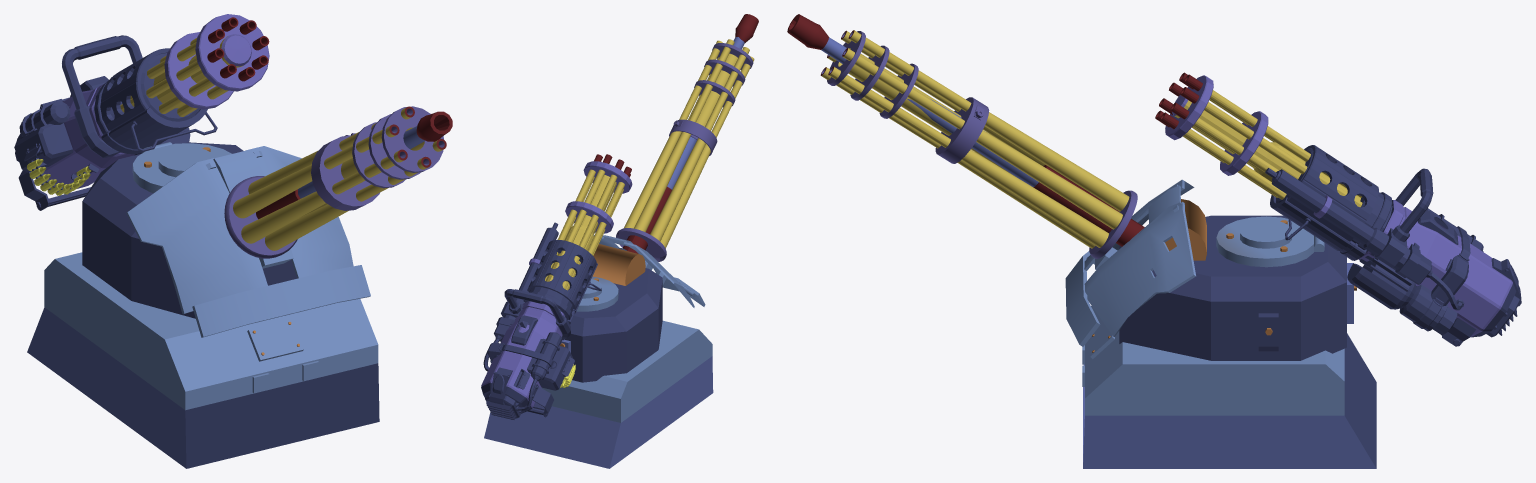
File: Cannon-S-2.fbx
The picture shows the model from 3 angles, left to right: view 1: azimuth 30°, elevation 25°; view 2: azimuth 150°, elevation 25°; view 3: azimuth 270°, elevation 25°; orthographic projection. The views are drawn at different scales.
Visible parts, largest first — view 1: pasted__polySurface268, Attack, Attack1; view 2: pasted__polySurface268, Attack, Attack1; view 3: pasted__polySurface268, Attack, Attack1.
Boxes of the visible parts, x1,y1,x2,y2 form: pasted__polySurface268: [27, 142, 379, 468]; Attack: [14, 14, 269, 210]; Attack1: [224, 106, 452, 258]; pasted__polySurface268: [484, 235, 713, 468]; Attack: [481, 154, 632, 419]; Attack1: [616, 14, 758, 261]; pasted__polySurface268: [1065, 179, 1376, 468]; Attack: [1155, 72, 1521, 346]; Attack1: [787, 14, 1144, 258].
Bounding box in the file's own units: 2.77 × 5.99 × 9.7.
